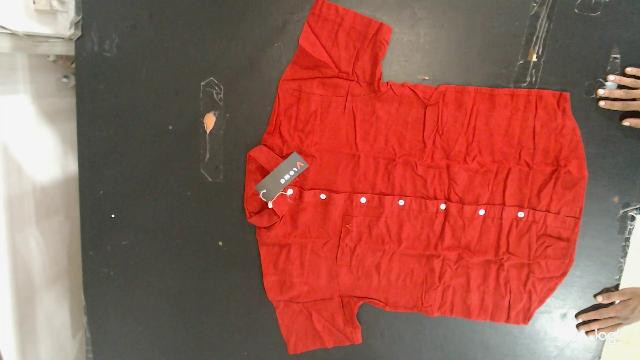new-garment: (244, 0, 588, 353)
